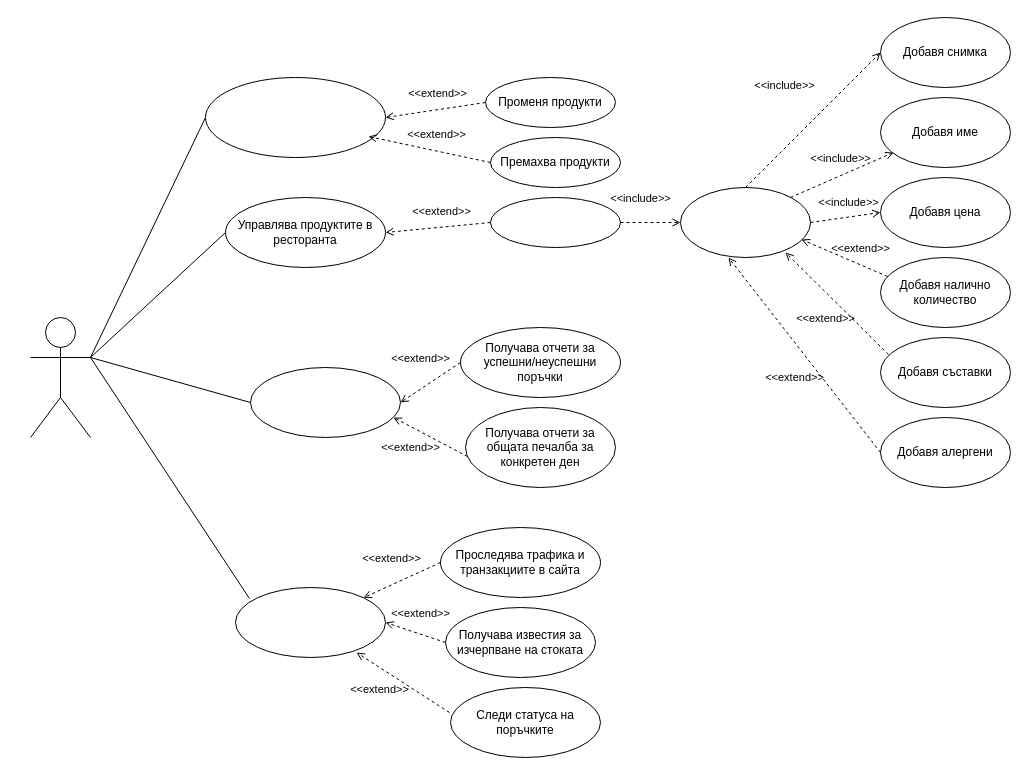
This 1028x775 diagram has some shape labels left out. The shapes that lost their labels are listed below. From the top down, each one's centre as x and y in pixels, then its label:
the point at 295,117: Управлява профилите на потребителите и техните роли
the point at 555,222: Добавя продукти
the point at 745,222: Добавя информация за продукт
the point at 60,377: Администратор
the point at 325,402: Преглежда финансови отчети
the point at 310,622: Наблюдава системната активност
